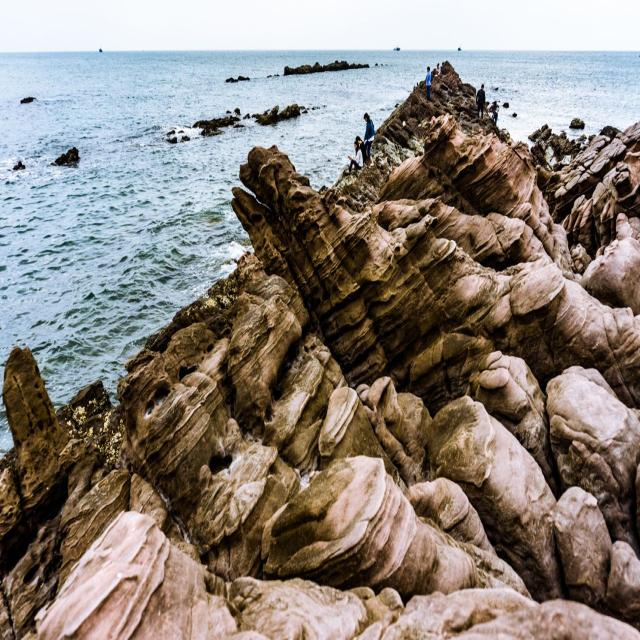reef: (238, 156, 612, 520), (169, 68, 313, 139), (299, 46, 386, 101)
